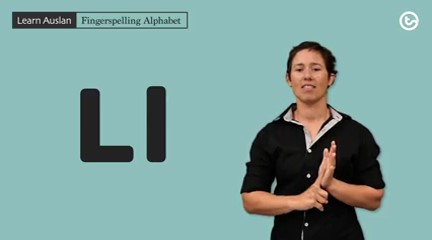L: (296, 136, 345, 217)
